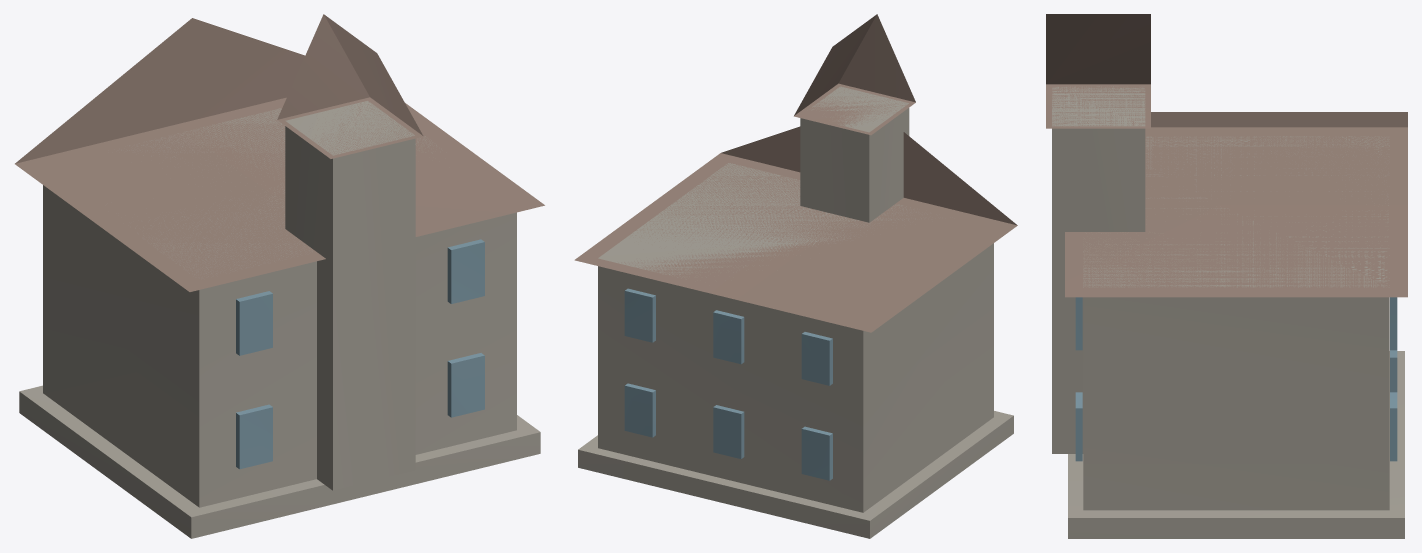
Rendered from church-05.glb.
The picture shows the model from 3 angles, left to right: view 1: azimuth 30°, elevation 25°; view 2: azimuth 150°, elevation 25°; view 3: azimuth 270°, elevation 25°; orthographic projection. The views are drawn at different scales.
Visible parts, largest first — view 1: world; view 2: world; view 3: world.
Part boxes in pixels (box(x1,y1,x2,y2)): world: box(15, 14, 544, 538); world: box(574, 14, 1017, 538); world: box(1046, 14, 1407, 538).
Size of the model in its own units: 1.38 by 1.67 by 1.24.
